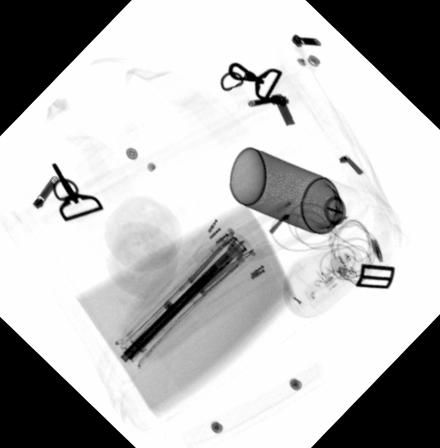Sprayer: (226, 144, 370, 245)
